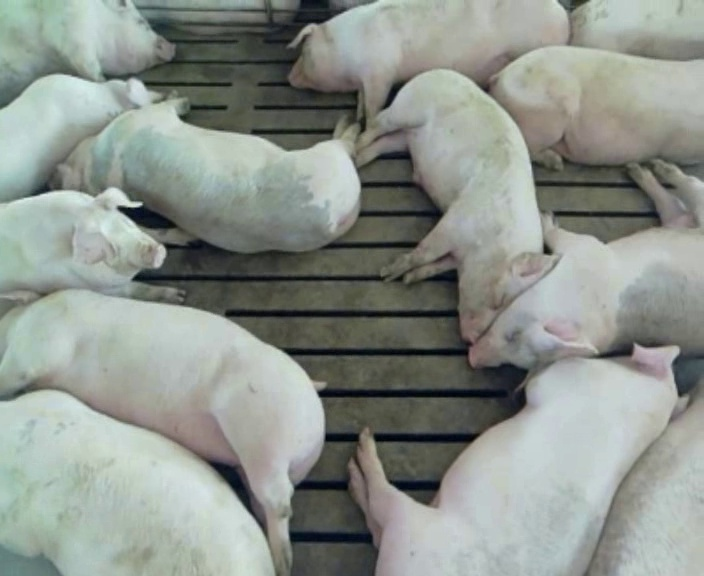pig: (348, 346, 688, 573), (356, 69, 556, 342), (470, 160, 703, 389), (57, 98, 360, 252), (288, 2, 567, 126), (490, 46, 703, 169), (588, 379, 703, 574), (0, 74, 160, 201), (0, 2, 174, 106), (570, 2, 703, 58)
